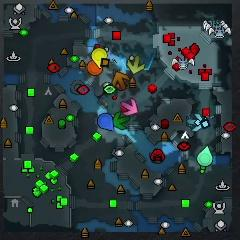p1: (98, 114, 114, 132)
p2: (197, 147, 212, 166)
p4: (92, 48, 108, 70)
p5: (88, 59, 104, 76)
x1: (122, 98, 138, 115)
x2: (128, 56, 145, 74)
x3: (188, 114, 206, 131)
x4: (113, 112, 130, 129)
x5: (113, 72, 129, 90)
